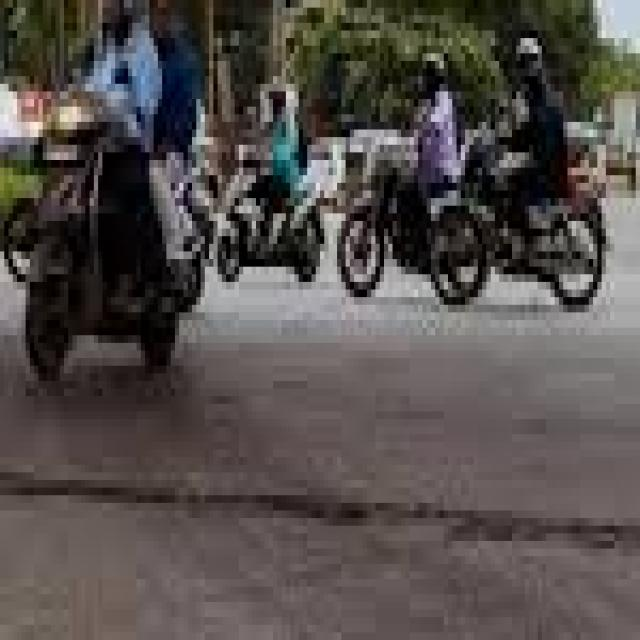bike: (17, 61, 205, 396), (431, 107, 614, 335), (337, 122, 486, 320), (218, 130, 324, 312)
